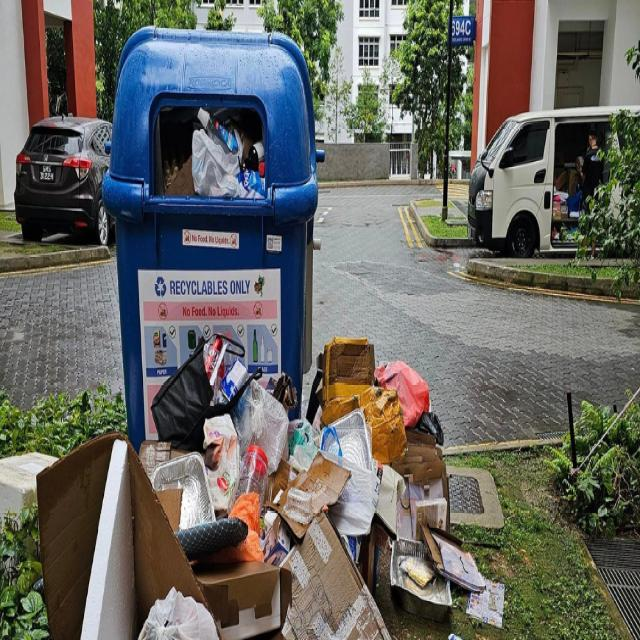bin_full: (102, 24, 322, 447)
bulk_waste: (38, 433, 206, 639), (133, 439, 303, 639), (278, 507, 383, 639)
normal_waste: (374, 363, 452, 624), (318, 405, 379, 538), (232, 379, 292, 474), (200, 416, 240, 510), (194, 105, 238, 158), (288, 416, 314, 464), (414, 408, 444, 445), (236, 169, 266, 199), (250, 138, 264, 168)
vehicle: (468, 107, 621, 257), (15, 115, 114, 245)
